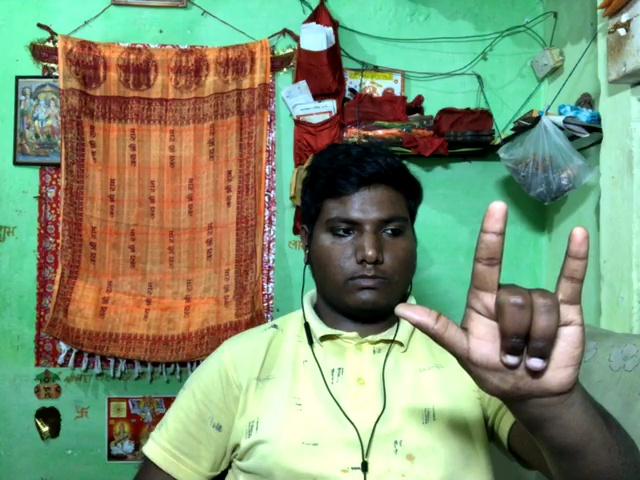I Love You: (383, 187, 606, 415)
